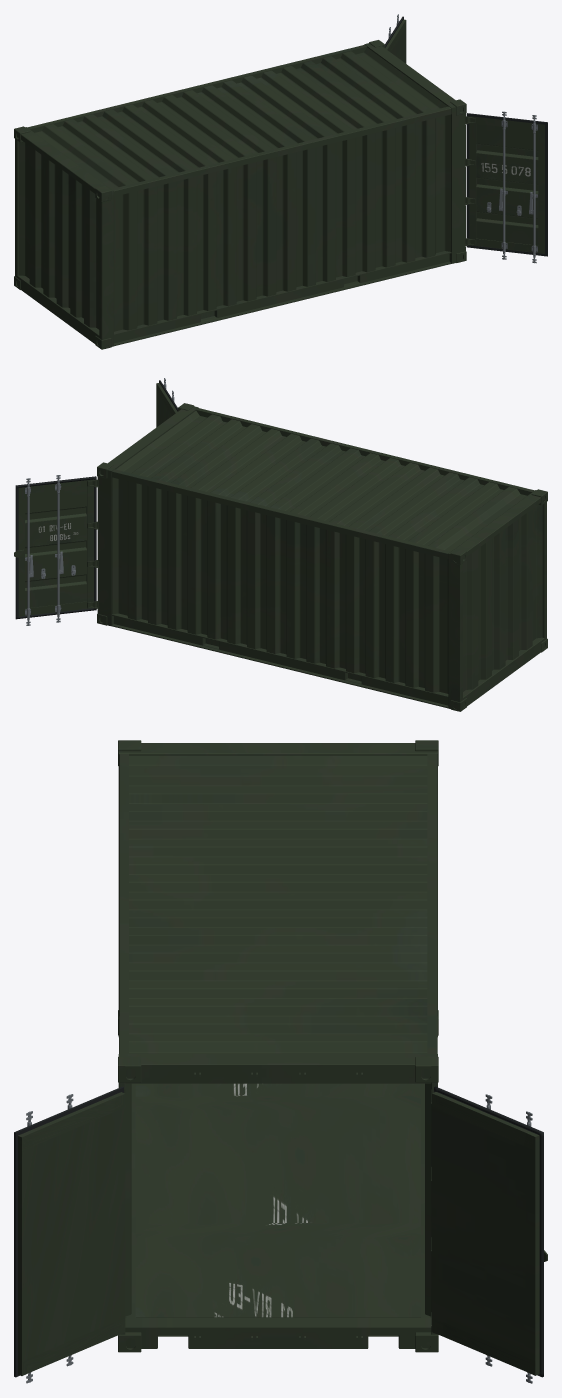
File: contenedor.fbx
3 renders of one model, top to bottom at view 1: azimuth 30°, elevation 25°; view 2: azimuth 150°, elevation 25°; view 3: azimuth 270°, elevation 25°, orthographic. The views are drawn at different scales.
Visible parts, largest first — view 1: Object001, Container_00, Container_01, Object005; view 2: Object001, Container_00, Object005, Container_01; view 3: Container_00, Object001, Object005, Container_01.
Boxes of the visible parts, <box> form: Object001: <box>18,47,450,331</box>; Container_00: <box>14,40,466,349</box>; Container_01: <box>464,111,547,263</box>; Object005: <box>385,14,406,63</box>; Object001: <box>112,410,542,693</box>; Container_00: <box>97,403,547,711</box>; Object005: <box>14,475,98,625</box>; Container_01: <box>156,378,177,427</box>; Container_00: <box>118,740,438,1352</box>; Object001: <box>125,755,431,1336</box>; Object005: <box>432,1086,547,1383</box>; Container_01: <box>14,1086,125,1383</box>.
Bounding box in the file's own units: 820 × 294 × 495.
2 materials, 2 textured.
